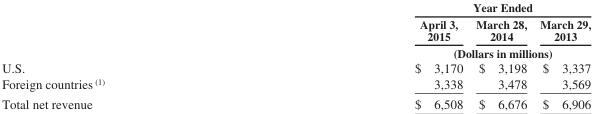table: (1, 0, 590, 111)
table column: (1, 0, 258, 111), (258, 0, 468, 111), (468, 0, 532, 111), (532, 0, 590, 111)
table column header: (1, 0, 590, 59)
table row: (1, 15, 590, 44), (1, 75, 590, 93), (1, 93, 590, 111), (1, 59, 590, 75), (1, 0, 590, 15), (1, 44, 590, 59)
table spanning cell: (258, 0, 590, 15), (258, 44, 590, 59)
